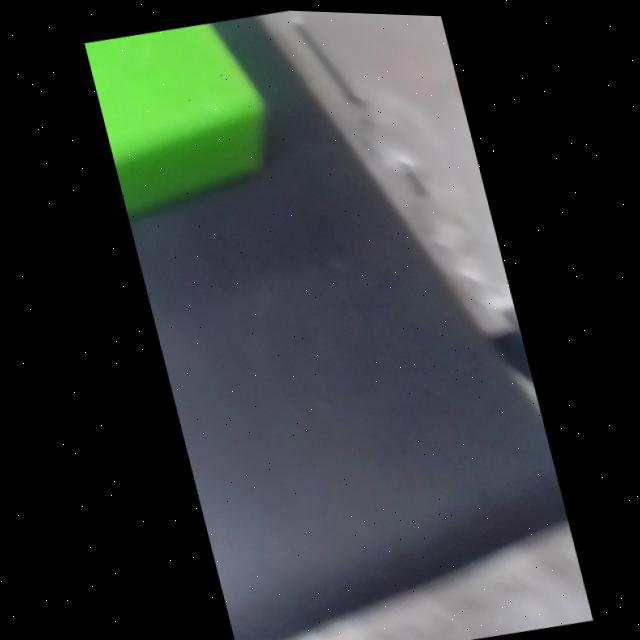greenBox: (83, 10, 300, 237)
